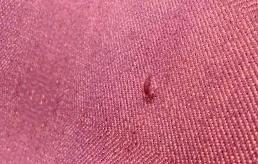knot: (140, 74, 157, 105)
